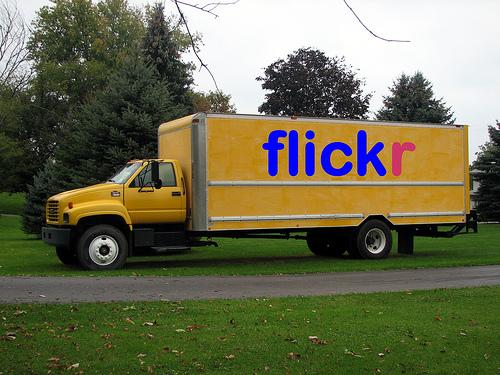truck: (43, 111, 479, 273)
